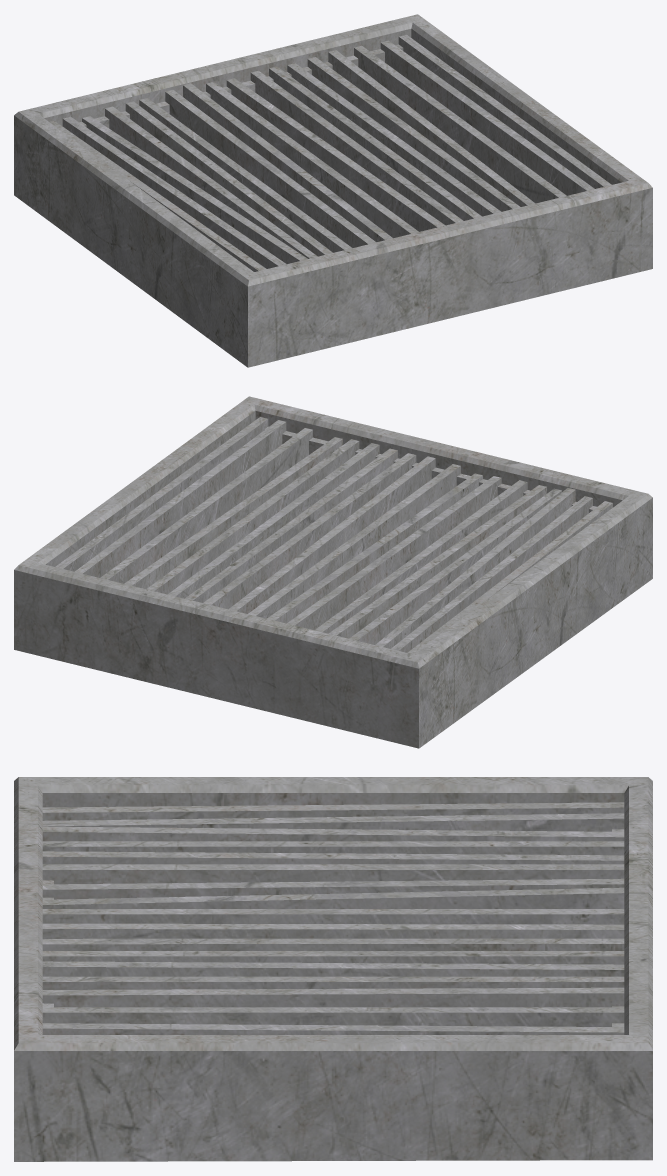
Rendered from grate_y.FBX.
3 views of the same model, one above another, from view 1: azimuth 30°, elevation 25°; view 2: azimuth 150°, elevation 25°; view 3: azimuth 270°, elevation 25° (orthographic). The views are drawn at different scales.
Visible parts, largest first — view 1: Box001; view 2: Box001; view 3: Box001.
Boxes of the visible parts, x1,y1,x2,y2 form: Box001: (14, 14, 652, 367); Box001: (14, 396, 652, 748); Box001: (14, 777, 652, 1161).
Size of the model in its own units: 1 by 1 by 0.2025.
